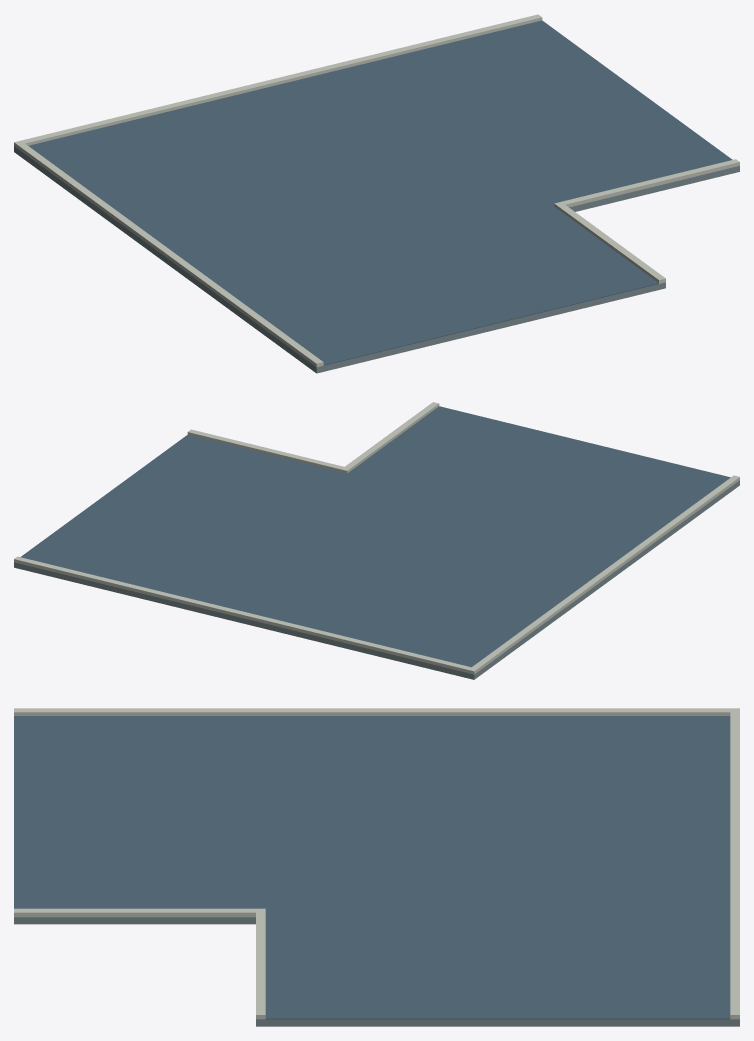
The model's file is d03_apartment_family_10_inside.glb.
3 views of the same model, one above another, from view 1: azimuth 30°, elevation 25°; view 2: azimuth 150°, elevation 25°; view 3: azimuth 270°, elevation 25° (orthographic). The views are drawn at different scales.
Visible parts, largest first — view 1: D03ApartmentFamily10Inside_Mesh; view 2: D03ApartmentFamily10Inside_Mesh; view 3: D03ApartmentFamily10Inside_Mesh.
Boxes of the visible parts, x1,y1,x2,y2 form: D03ApartmentFamily10Inside_Mesh: [14, 14, 739, 373]; D03ApartmentFamily10Inside_Mesh: [14, 402, 739, 679]; D03ApartmentFamily10Inside_Mesh: [14, 708, 739, 1026].
Size of the model in its own units: 18 by 0.32 by 18.
